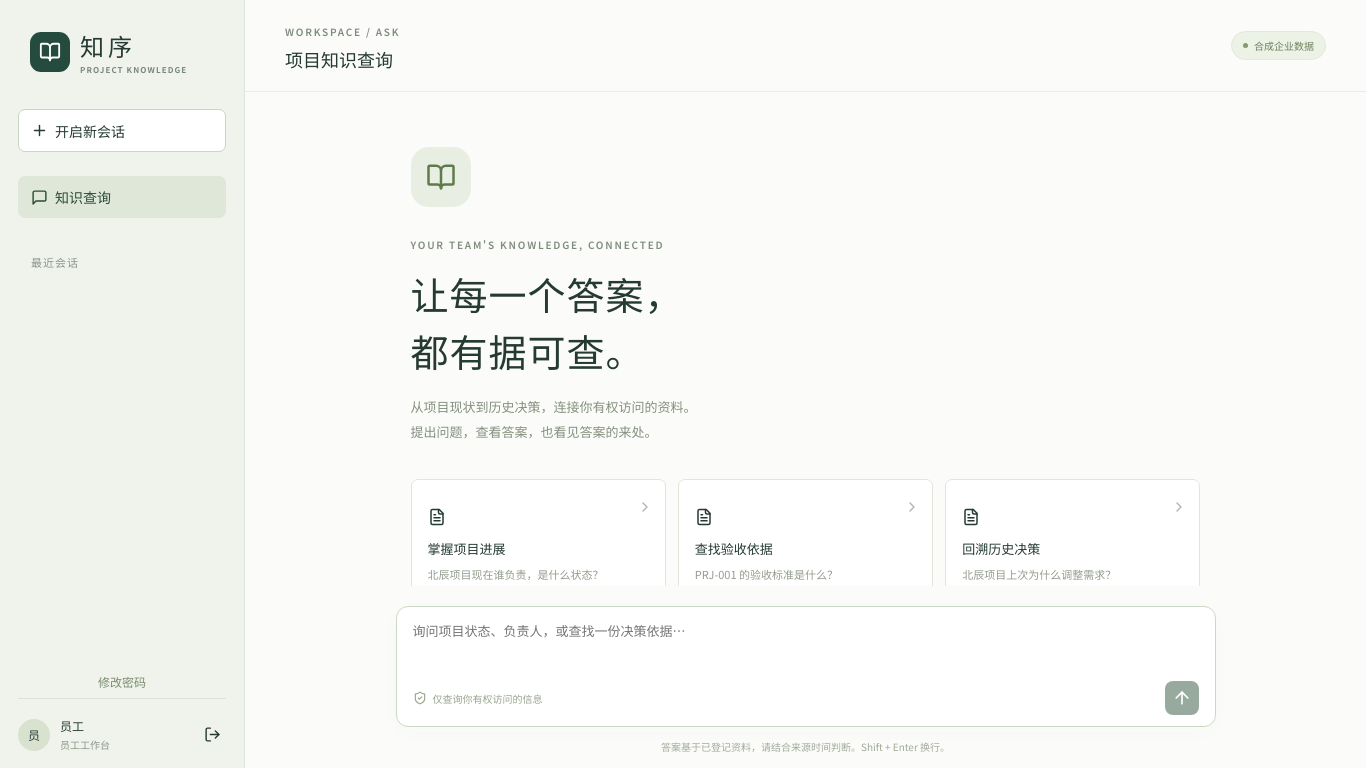
Test: 切换后迟到的提交不会重开旧会话监听
This screenshot has width=1366, height=768.
Expected: the button "知识查询" is shown, x1=18 y1=176 x2=226 y2=218
In the text box named "输入项目问题": (806, 649) x1=412 y1=621 x2=1198 y2=677, type "测试"
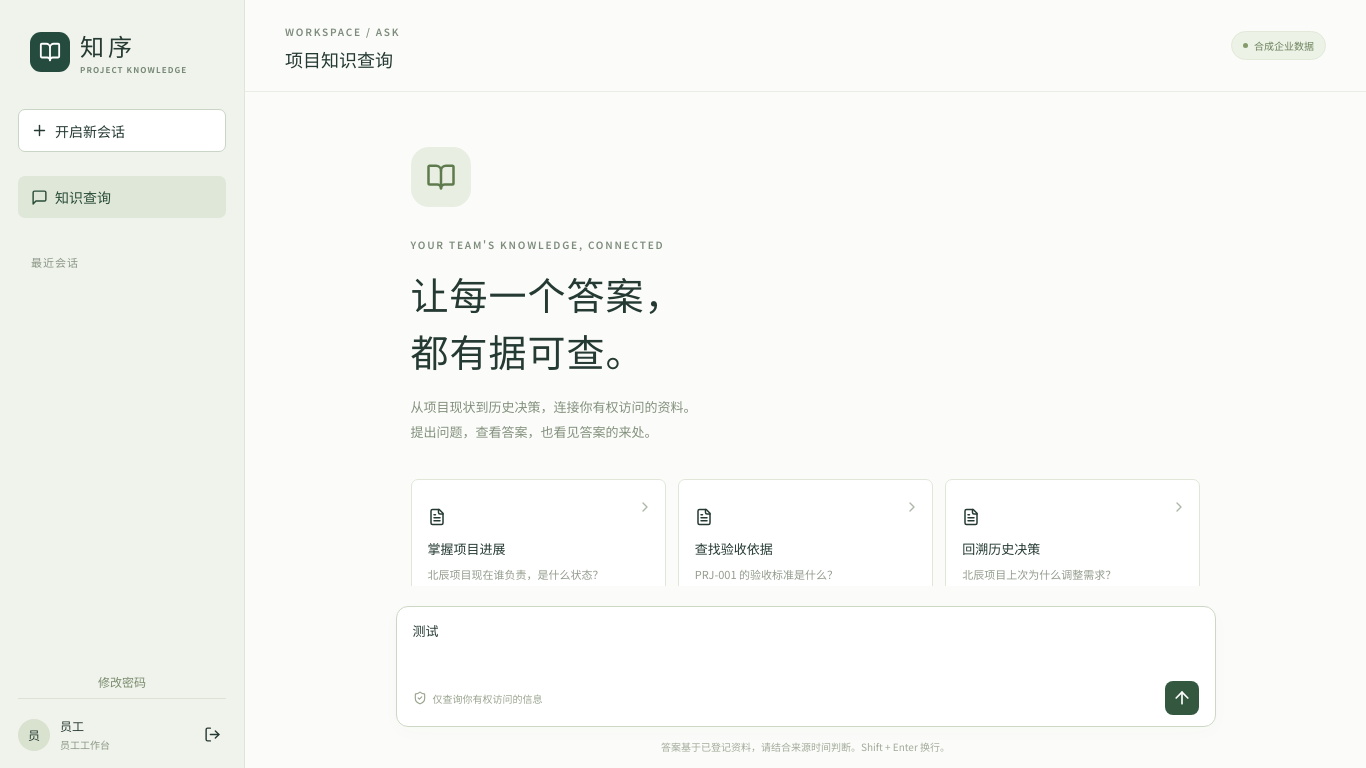
Click the button named "发送问题": (1182, 698) x1=1164 y1=681 x2=1198 y2=715
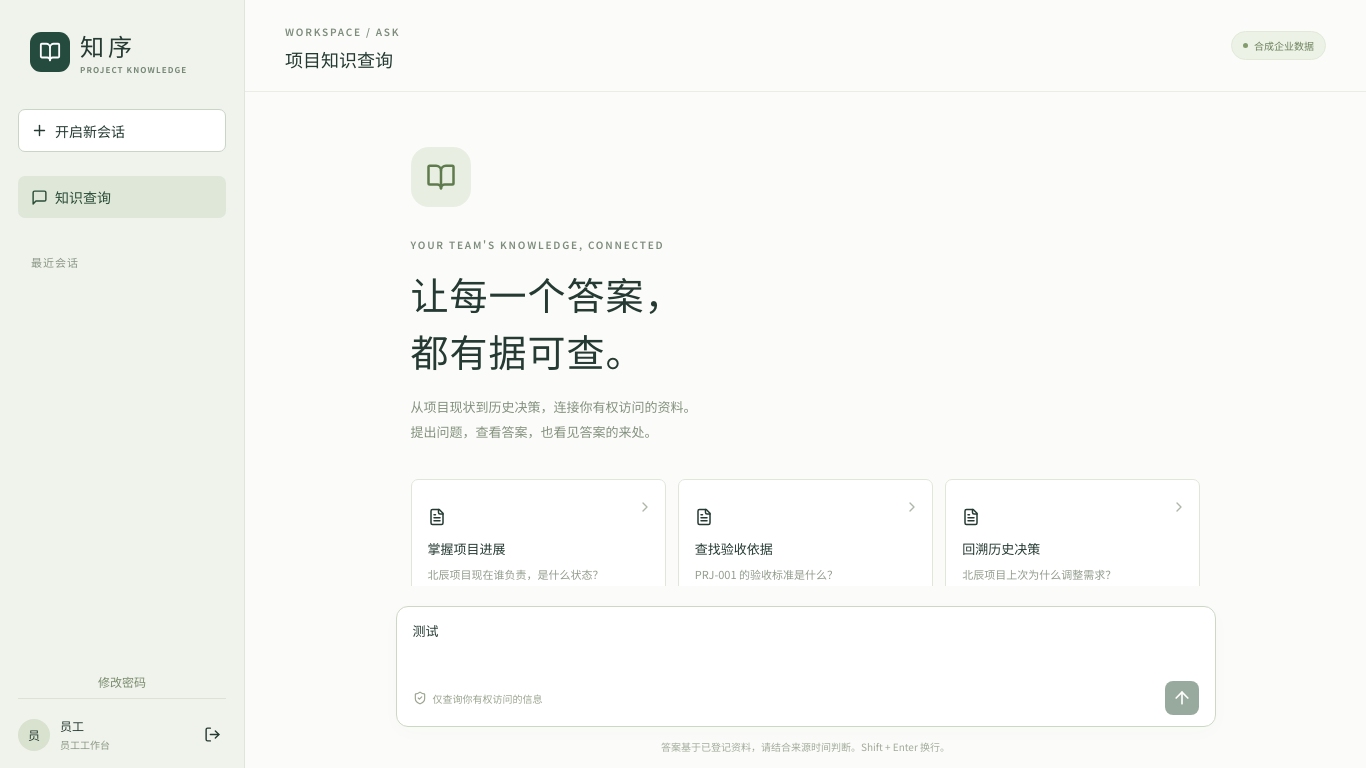
Click the button "开启新会话": (122, 130) x1=18 y1=109 x2=226 y2=152
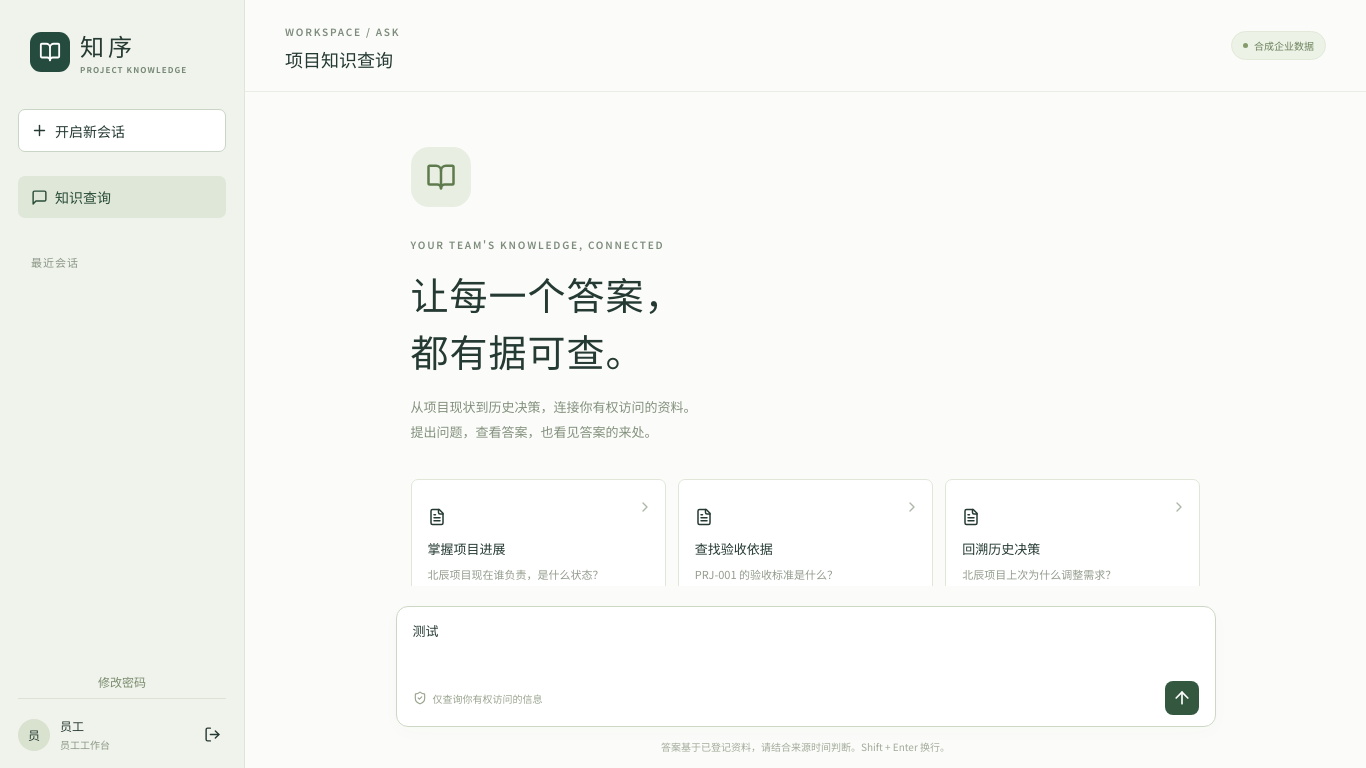
Expected: the button named "发送问题" is enabled, x1=1164 y1=681 x2=1198 y2=715
